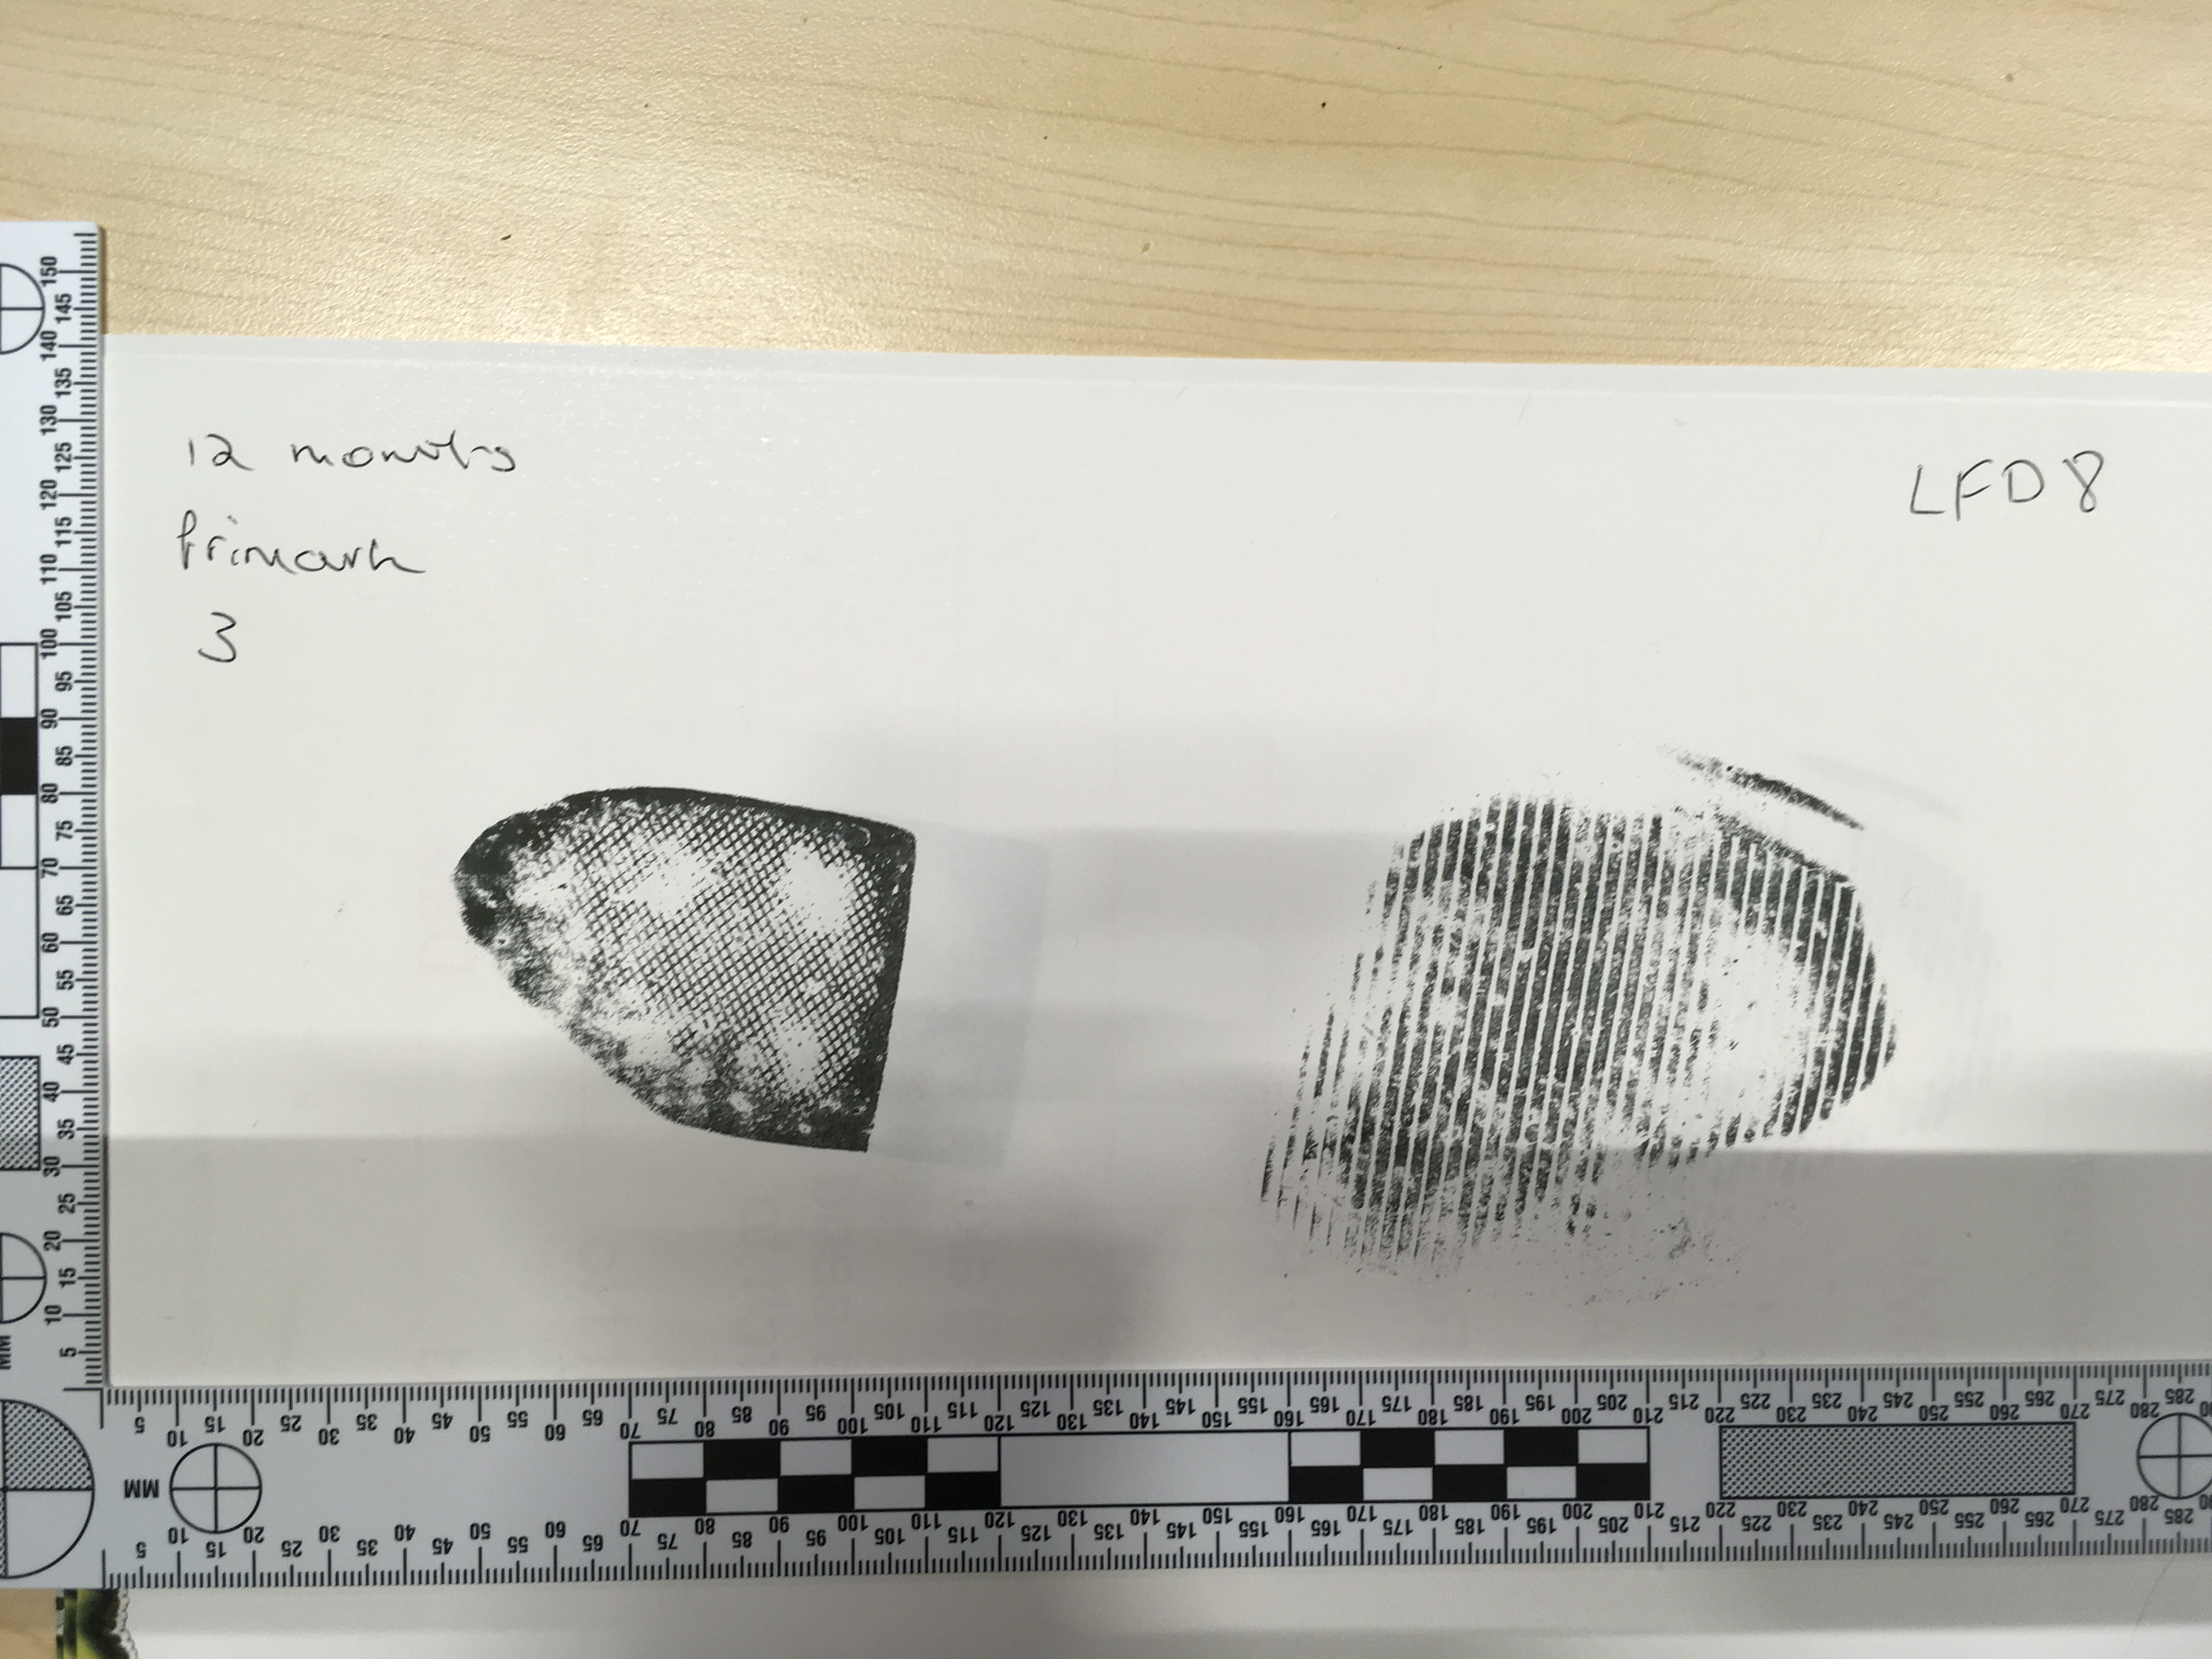footwear: (446, 744, 1911, 1279)
